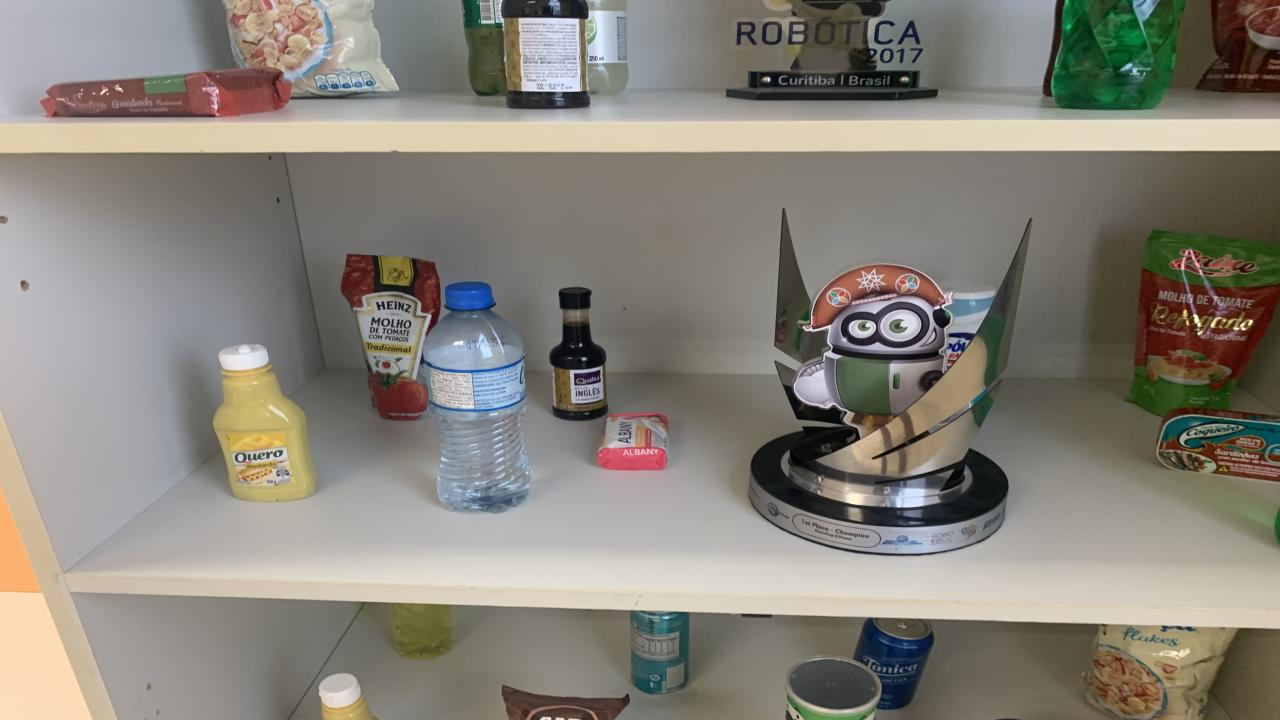Cleaner-Cleanup_Items: (945, 283, 998, 369)
Coffee-Pantry_Items: (502, 686, 630, 720)
Detergent-Cleanup_Items: (1050, 0, 1185, 109), (390, 604, 455, 658)
English_Sauce-Pantry_Items: (500, 0, 590, 109), (550, 287, 608, 420)
Flakes-Snacks: (225, 0, 398, 96), (1085, 624, 1238, 720)
Guarana-Drinks: (462, 0, 508, 96)
Guava-Snacks: (40, 68, 290, 116)
Mustard-Pantry_Items: (212, 345, 318, 502), (318, 673, 375, 720)
Pringles-Snacks: (785, 656, 882, 720)
Soap-Cleanup_Items: (598, 412, 670, 471)
Soda-Drinks: (585, 0, 628, 96)
Tea-Drinks: (630, 611, 690, 694)
Tomato_Sauce-Pantry_Items: (1128, 231, 1280, 414), (340, 255, 440, 420), (1198, 0, 1280, 92)
Tonic-Drinks: (852, 617, 935, 709)
Trophy-Miscellaneous: (728, 0, 938, 99)
Tuna_Can-Pantry_Items: (1158, 407, 1280, 482)
Water_Bottle-Drinks: (422, 283, 530, 512)
